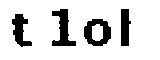1: (45, 8, 79, 51)
l: (117, 4, 141, 52)
o: (82, 17, 112, 50)
t: (7, 11, 34, 52)
